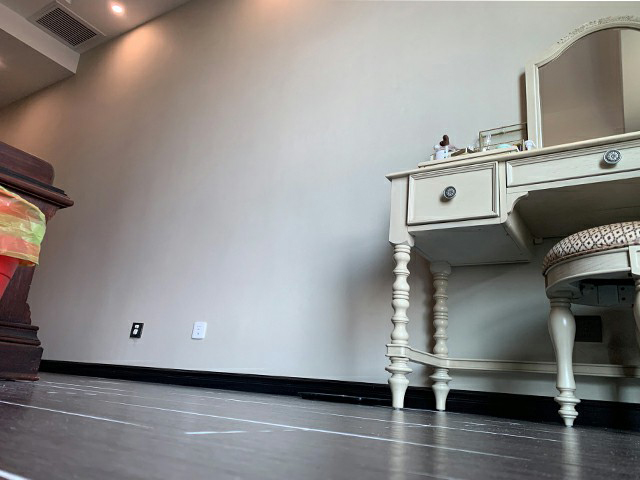stool: (541, 219, 640, 428)
table: (383, 14, 640, 413)
